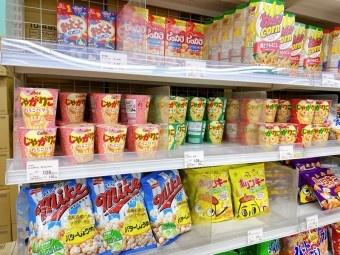snack: (25, 179, 111, 255), (88, 172, 159, 255), (142, 168, 193, 250), (228, 163, 271, 220)
